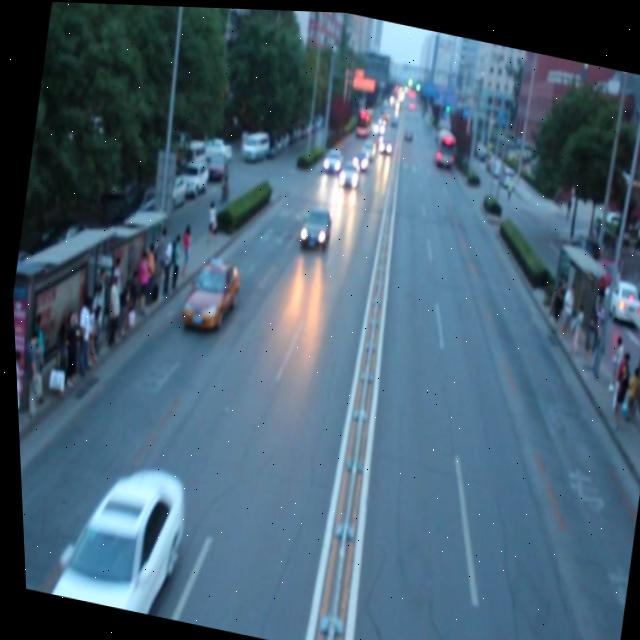car: (40, 449, 190, 618), (177, 250, 240, 336), (293, 199, 333, 250), (334, 156, 359, 185), (318, 143, 342, 172), (347, 146, 368, 169), (357, 135, 376, 156)
